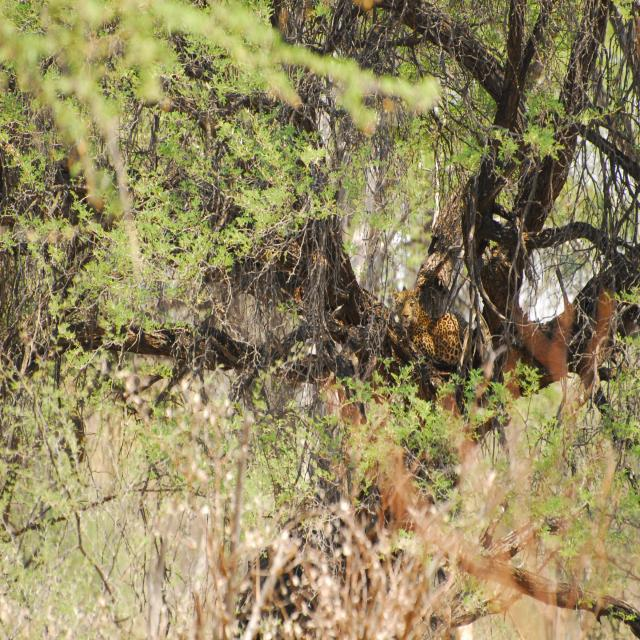Leopard: (399, 300, 472, 362)
